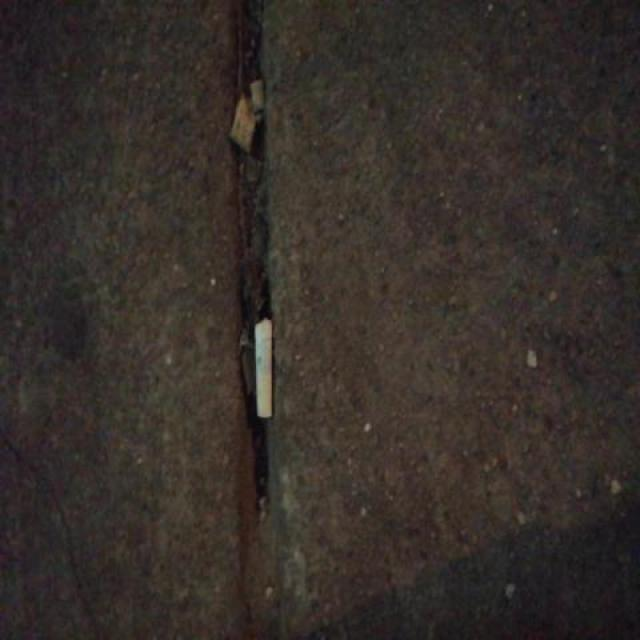non-organic waste: (253, 316, 275, 420)
